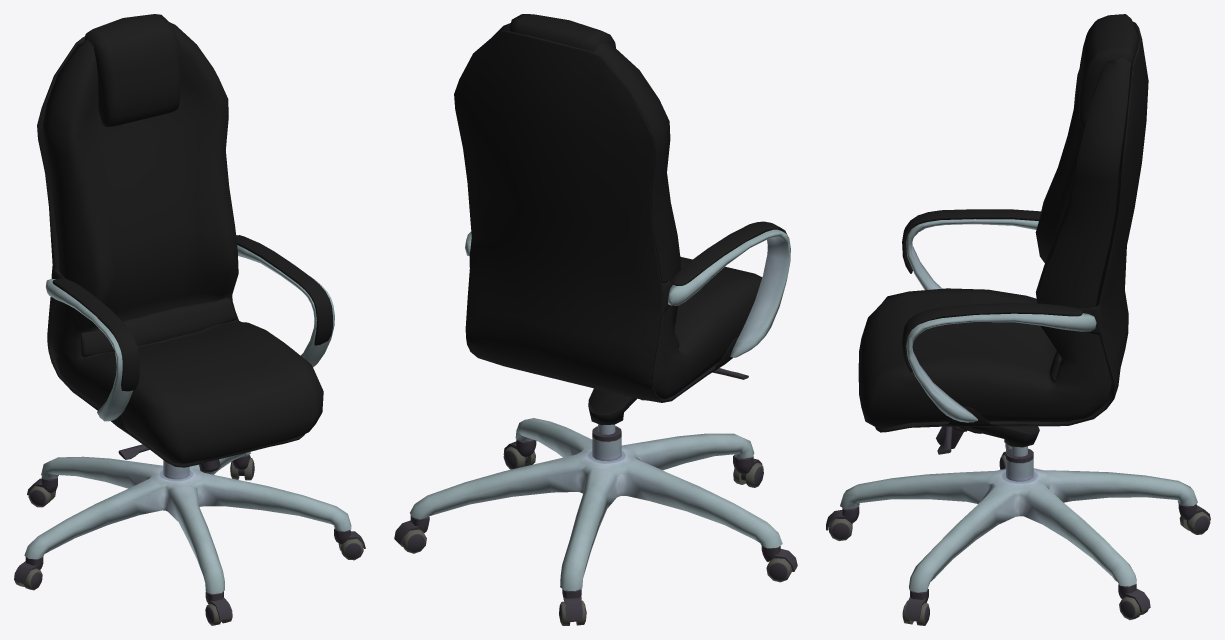
File: CHAIR 2.gltf
The picture shows the model from 3 angles, left to right: view 1: azimuth 30°, elevation 25°; view 2: azimuth 150°, elevation 25°; view 3: azimuth 270°, elevation 25°; orthographic projection. The views are drawn at different scales.
Parts seen in each view (by area): view 1: officeChair; view 2: officeChair; view 3: officeChair.
Part boxes in pixels (left/top/right/bottom): officeChair: left=14, top=14, right=365, bottom=625; officeChair: left=394, top=14, right=797, bottom=625; officeChair: left=826, top=14, right=1210, bottom=625.
Size of the model in its own units: 0.934 by 1.46 by 0.9635.
1 material, 1 textured.
